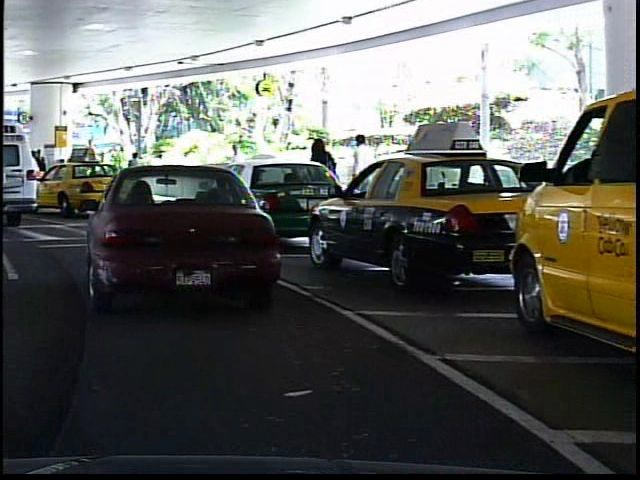person: (302, 133, 337, 230), (344, 129, 376, 224), (222, 138, 250, 205), (119, 146, 146, 198)
